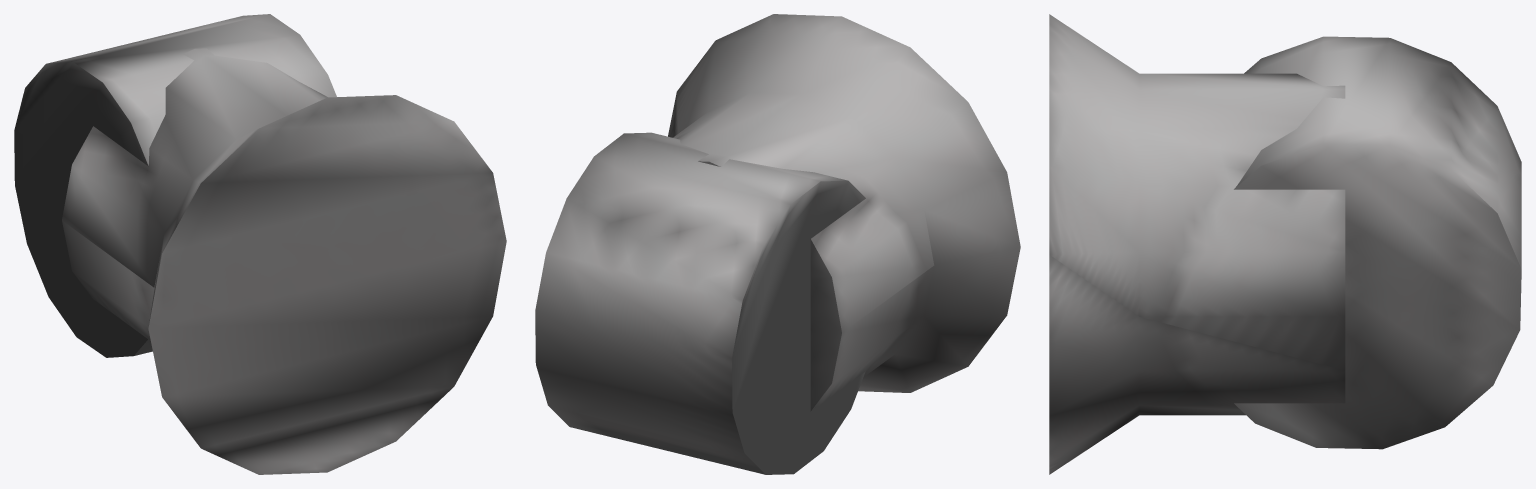
Rendered from l_farm.dae.
3 renders of one model, left to right at view 1: azimuth 30°, elevation 25°; view 2: azimuth 150°, elevation 25°; view 3: azimuth 270°, elevation 25°, orthographic. The views are drawn at different scales.
Parts seen in each view (by area): view 1: p42195_1, p42287_1; view 2: p42287_1, p42195_1; view 3: p42195_1, p42287_1.
Part boxes in pixels (<box>): p42195_1: <box>62,48,506,474</box>; p42287_1: <box>14,14,336,357</box>; p42287_1: <box>535,132,865,474</box>; p42195_1: <box>668,14,1020,411</box>; p42195_1: <box>1049,14,1345,474</box>; p42287_1: <box>1234,36,1521,449</box>.
Size of the model in its own units: 0.0918 by 0.094 by 0.0918.
